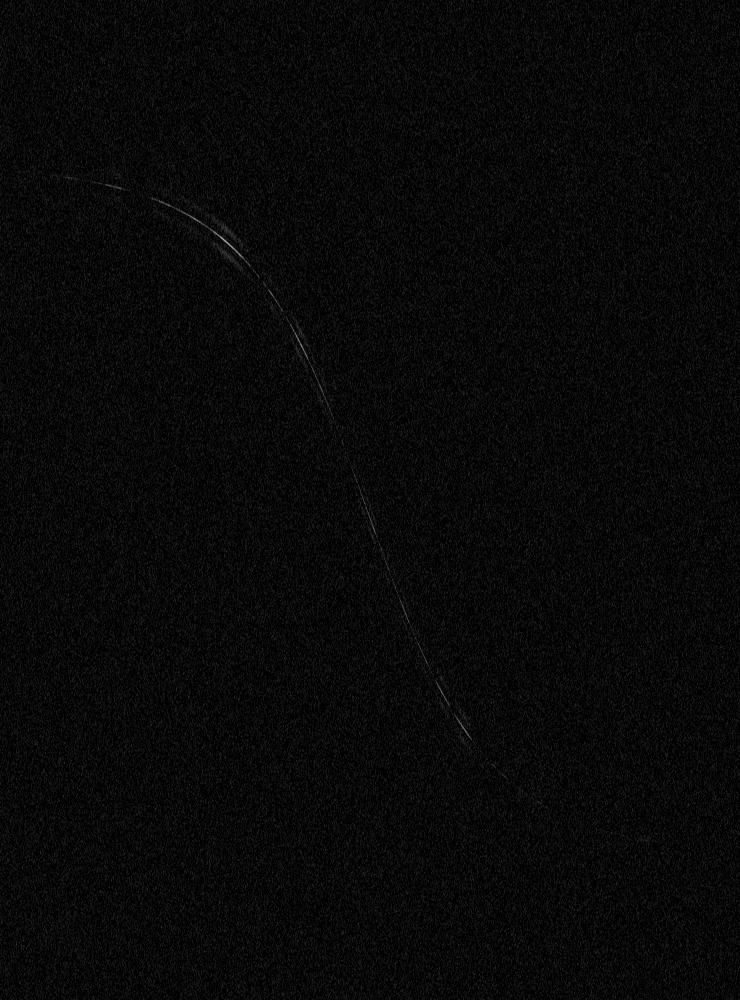signal: (0, 0, 739, 999)
